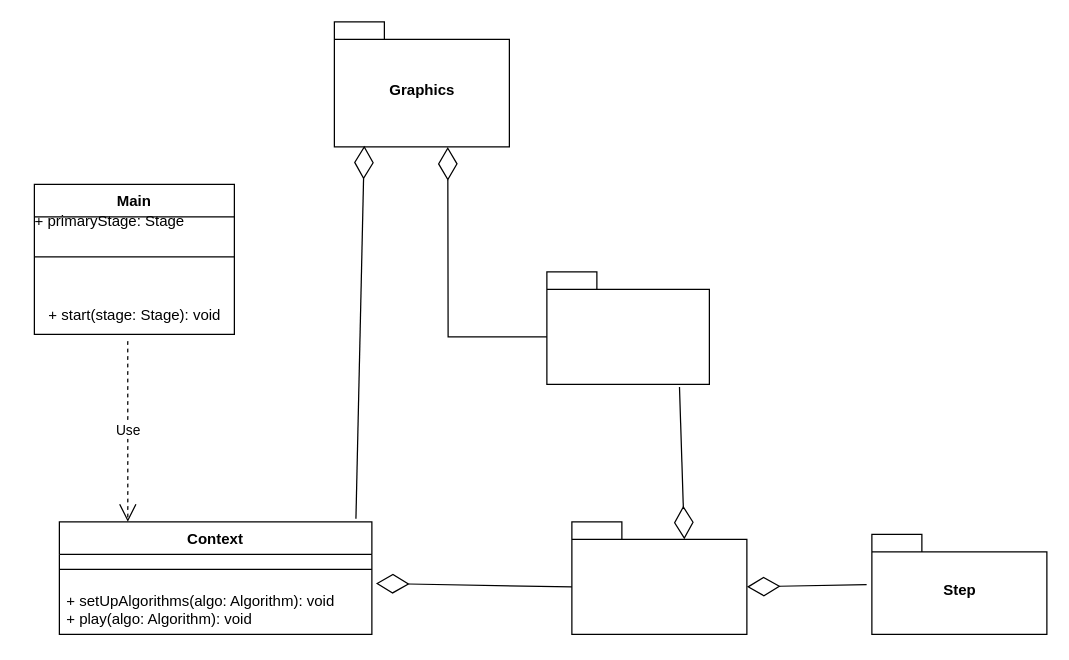
Some shapes in this 1069 by 660 pixel diagram are drawn without their labels. Here are the shapes that lost their labels. From the top down, the centre of each, then its label:
At pixel 627 327: "Graph".
At pixel 659 577: "Algorithm".
